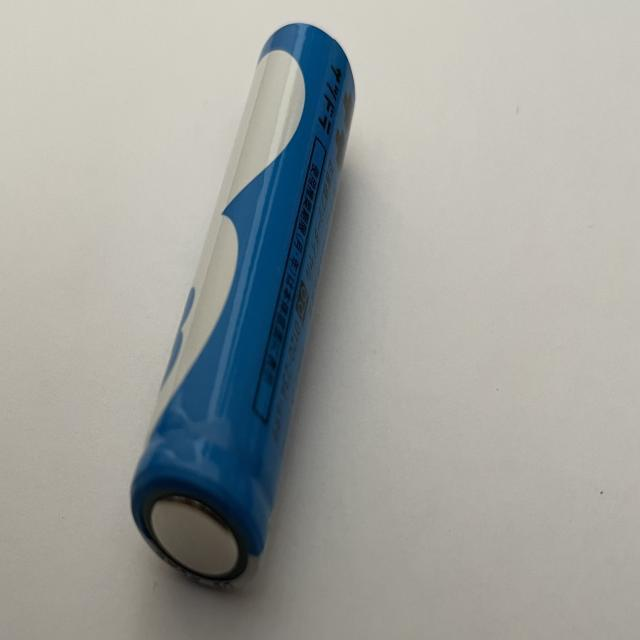AA: (128, 22, 357, 593)
